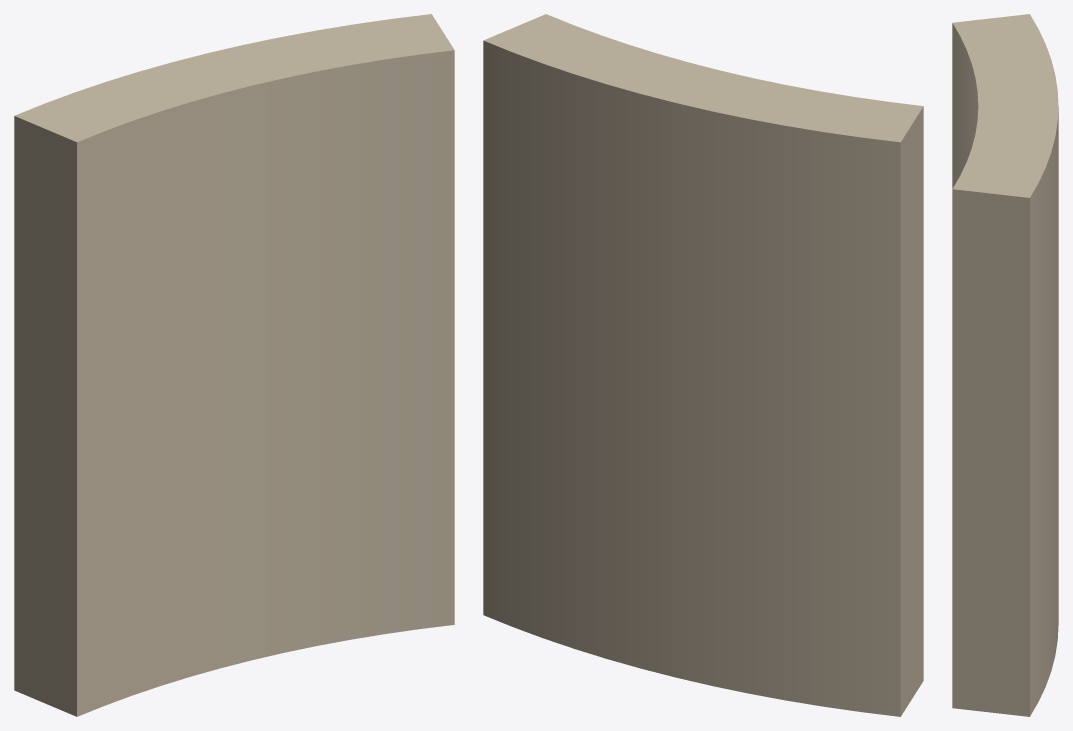
Rendered from Furn_Tower3_R45_Plain.fbx.
3 views of the same model, side by side, from view 1: azimuth 30°, elevation 25°; view 2: azimuth 150°, elevation 25°; view 3: azimuth 270°, elevation 25° (orthographic). The views are drawn at different scales.
Visible parts, largest first — view 1: Furn_Tower3_R45_Plain; view 2: Furn_Tower3_R45_Plain; view 3: Furn_Tower3_R45_Plain.
Boxes of the visible parts, x1,y1,x2,y2 form: Furn_Tower3_R45_Plain: (14,14,454,716); Furn_Tower3_R45_Plain: (483,14,923,716); Furn_Tower3_R45_Plain: (952,14,1058,716).
Size of the model in its own units: 2.66 by 3.5 by 0.6484.
